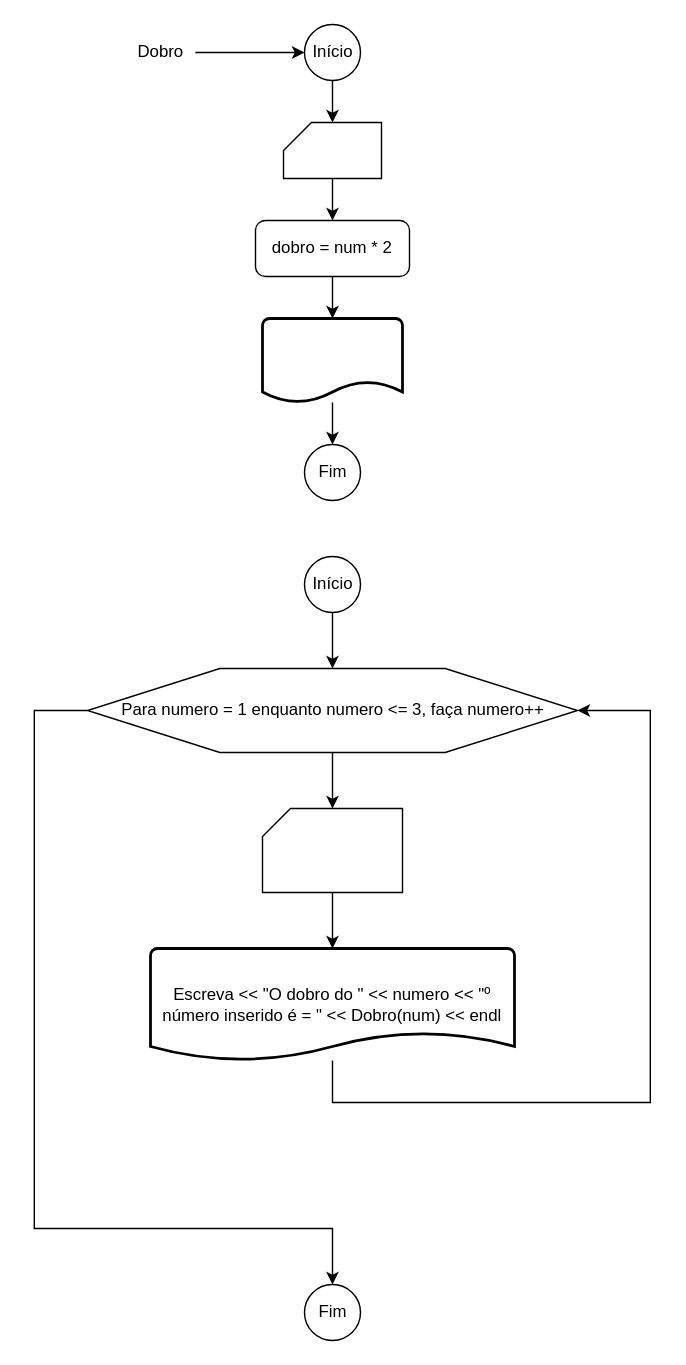
Image size: 686x1365. Some labels were removed from this diagram. The shapes that lost their labels are listed below. From the top down, each one's centre as x and y in pixels, then its label:
At (x=332, y=149): "num".
At (x=331, y=359): "Retorna dobro".
At (x=331, y=849): "Leia num".
